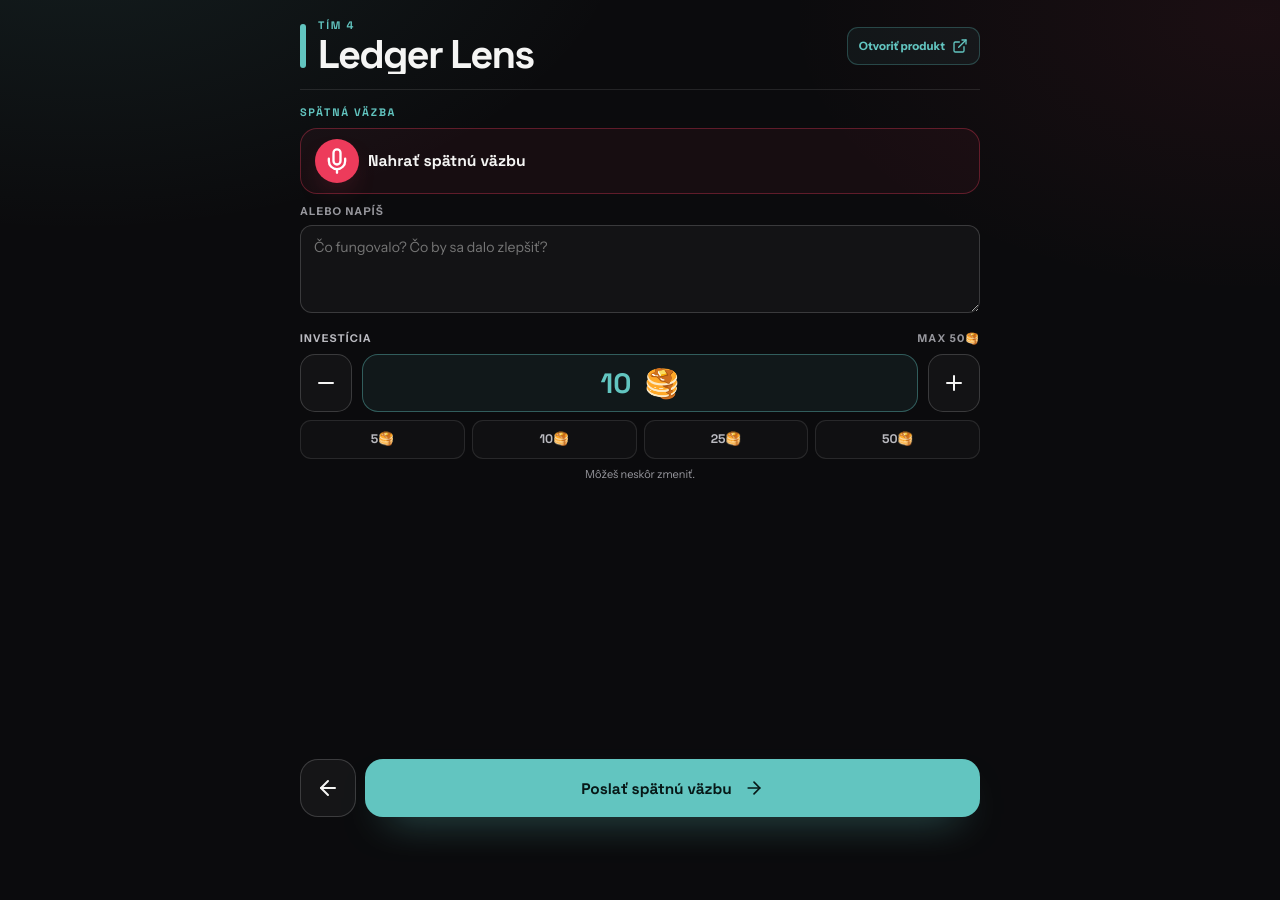
Test: SignalForm › makes feedback primary and keeps exact pancake controls
The image size is (1280, 900).
expect the text "Alebo napíš" is shown: met, box [300,205,384,218]
expect the text "Môžeš neskôr zmeniť." is shown: met, box [585,466,695,480]
Click the button named "Nastaviť 25🥞": (726, 439) [644,420,808,458]
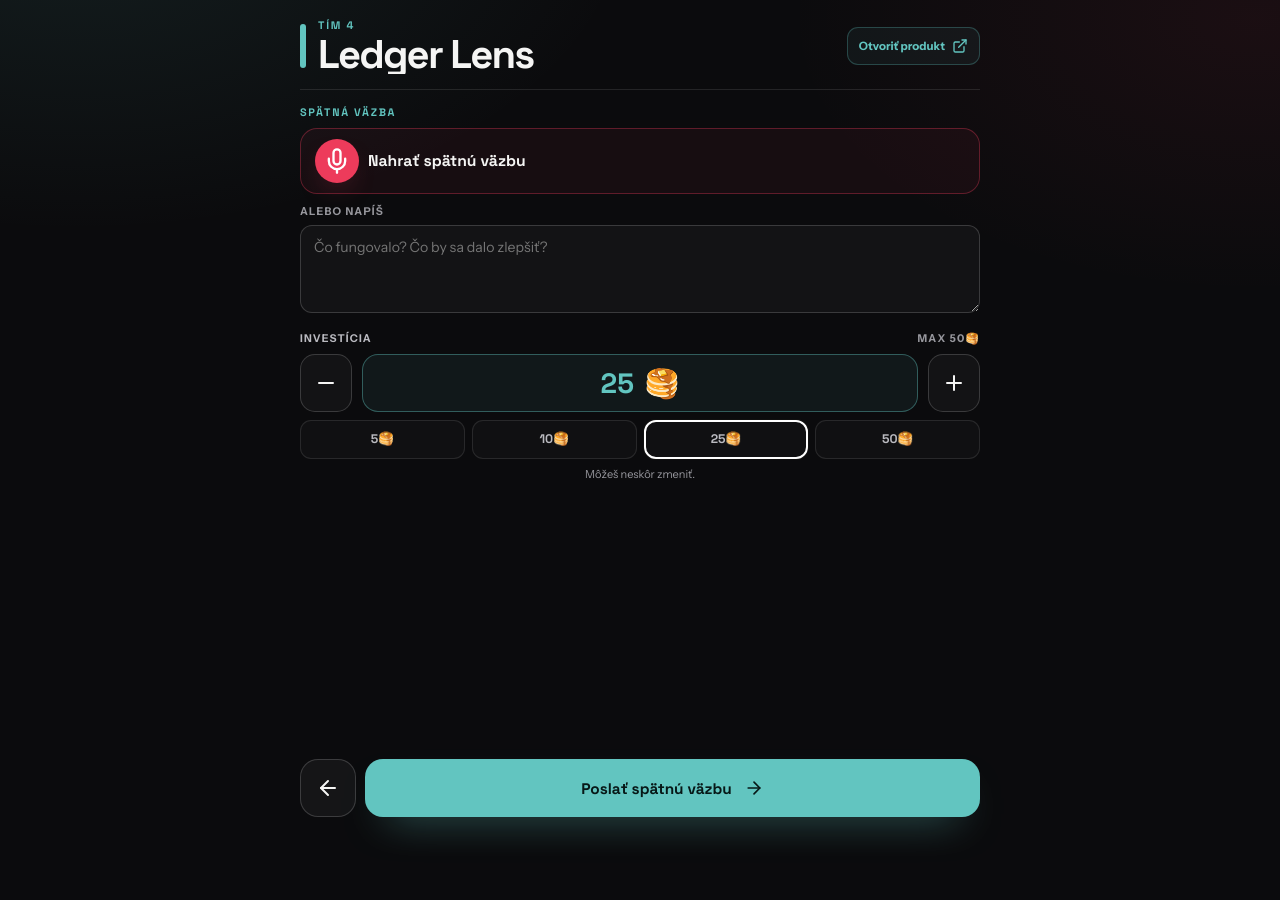
Click the button named "Pridať kredit": (954, 382) [928,354,980,412]
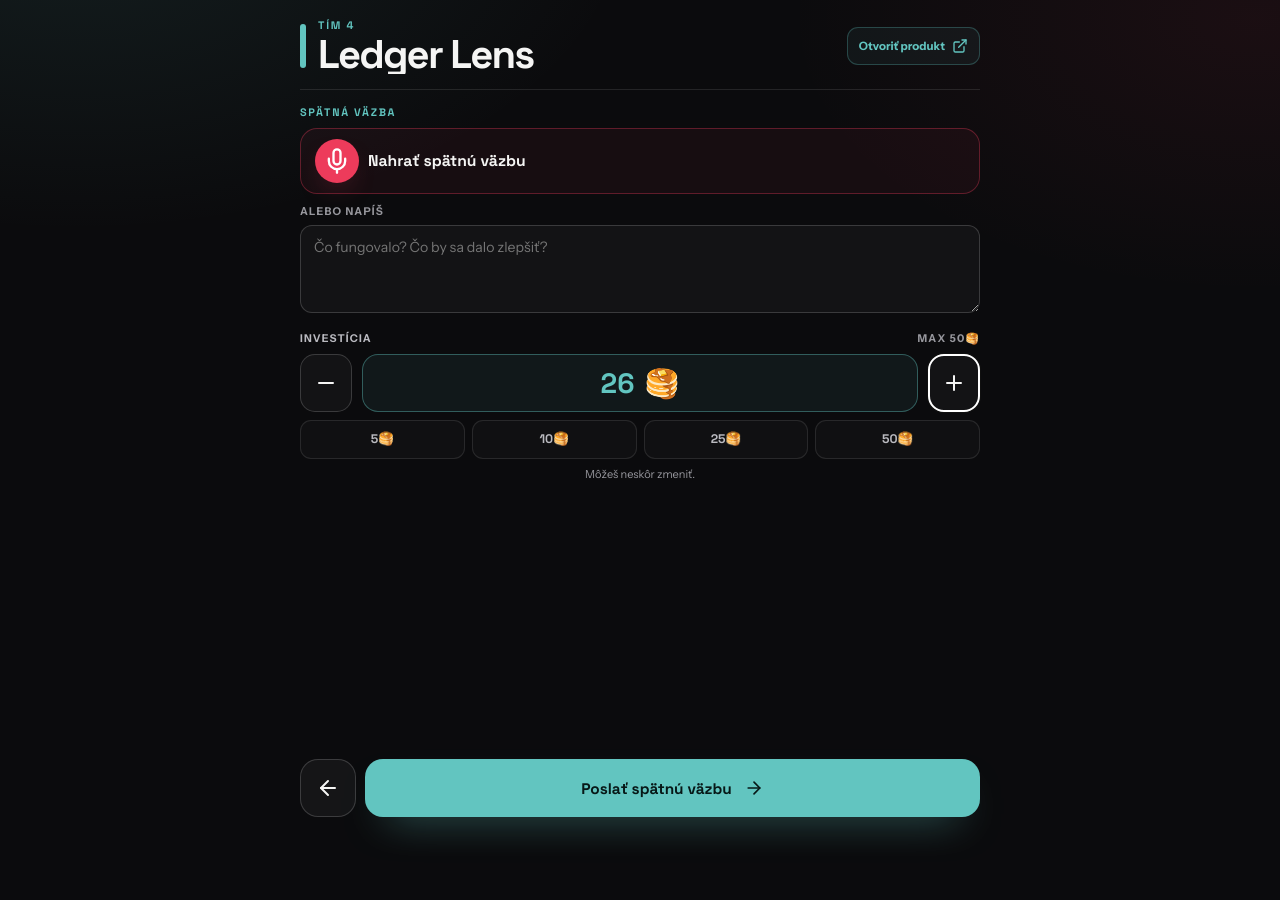
expect the number field named "Suma" holds "26": met, box [601,364,640,400]
